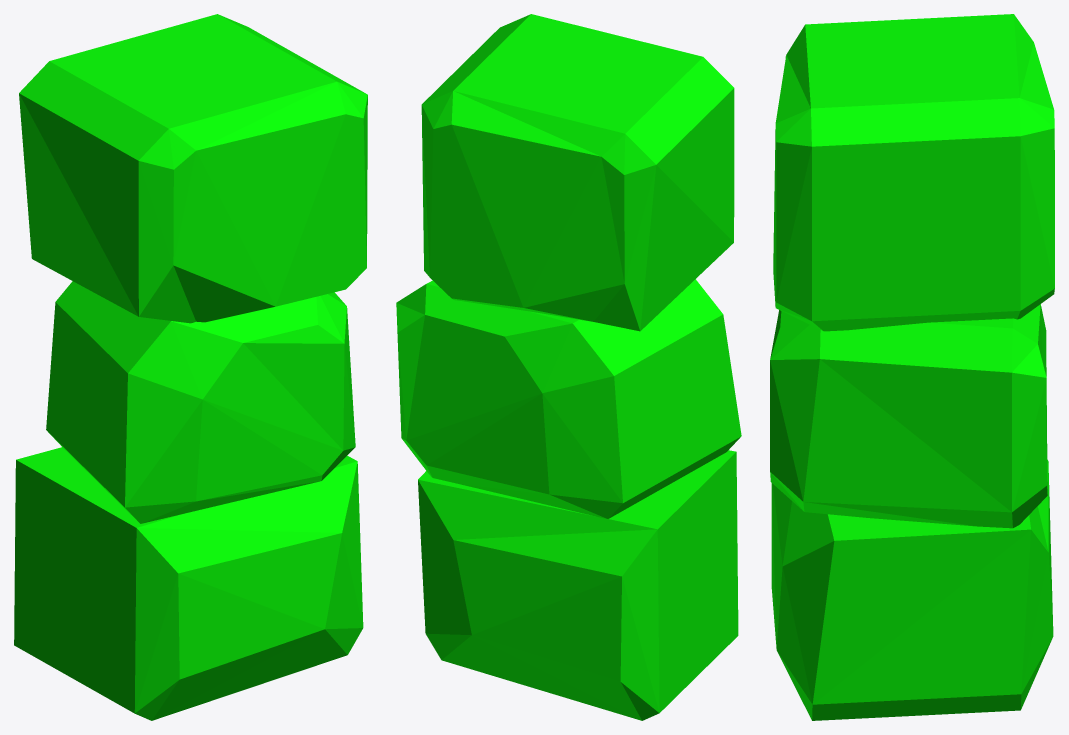
Rendered from SM_Pillar_Stone_1m_Fantasy.fbx.
The picture shows the model from 3 angles, left to right: view 1: azimuth 30°, elevation 25°; view 2: azimuth 150°, elevation 25°; view 3: azimuth 270°, elevation 25°; orthographic projection. The views are drawn at different scales.
Visible parts, largest first — view 1: pillar-stone-1m-fantasy; view 2: pillar-stone-1m-fantasy; view 3: pillar-stone-1m-fantasy.
Boxes of the visible parts, <box> form: pillar-stone-1m-fantasy: <box>14,14,367,720</box>; pillar-stone-1m-fantasy: <box>396,14,741,720</box>; pillar-stone-1m-fantasy: <box>770,14,1054,720</box>.
Size of the model in its own units: 0.4862 by 1.03 by 0.4273.
